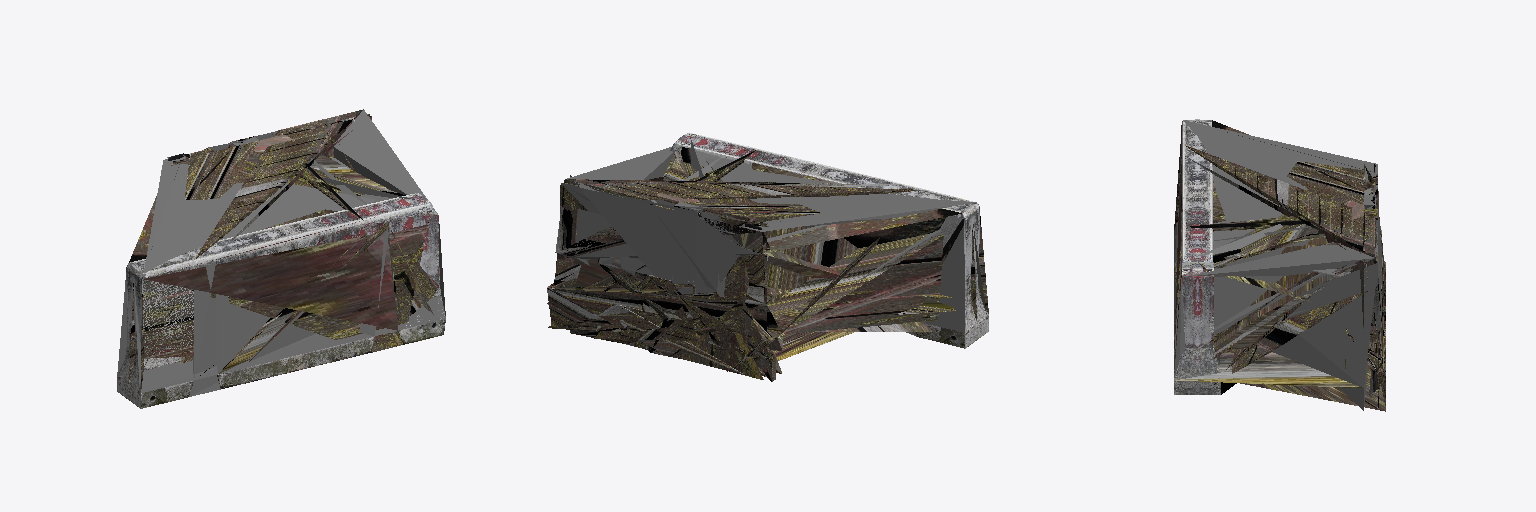
3 views of the same model, side by side, from view 1: azimuth 30°, elevation 25°; view 2: azimuth 150°, elevation 25°; view 3: azimuth 270°, elevation 25° (orthographic).
Parts seen in each view (by area): view 1: Box001, Block, Box002; view 2: Box001, Block, Box002; view 3: Box001, Block, Box002.
Part boxes in pixels (bbox=[...]): Box001: bbox=[129, 109, 440, 388]; Block: bbox=[117, 110, 445, 396]; Box002: bbox=[117, 193, 445, 408]; Box001: bbox=[547, 147, 988, 381]; Block: bbox=[558, 134, 986, 347]; Box002: bbox=[671, 133, 988, 348]; Box001: bbox=[1174, 120, 1385, 411]; Block: bbox=[1174, 120, 1381, 410]; Box002: bbox=[1174, 119, 1220, 394].
Size of the model in its own units: 170 by 71.24 by 92.83.
3 materials, 2 textured.